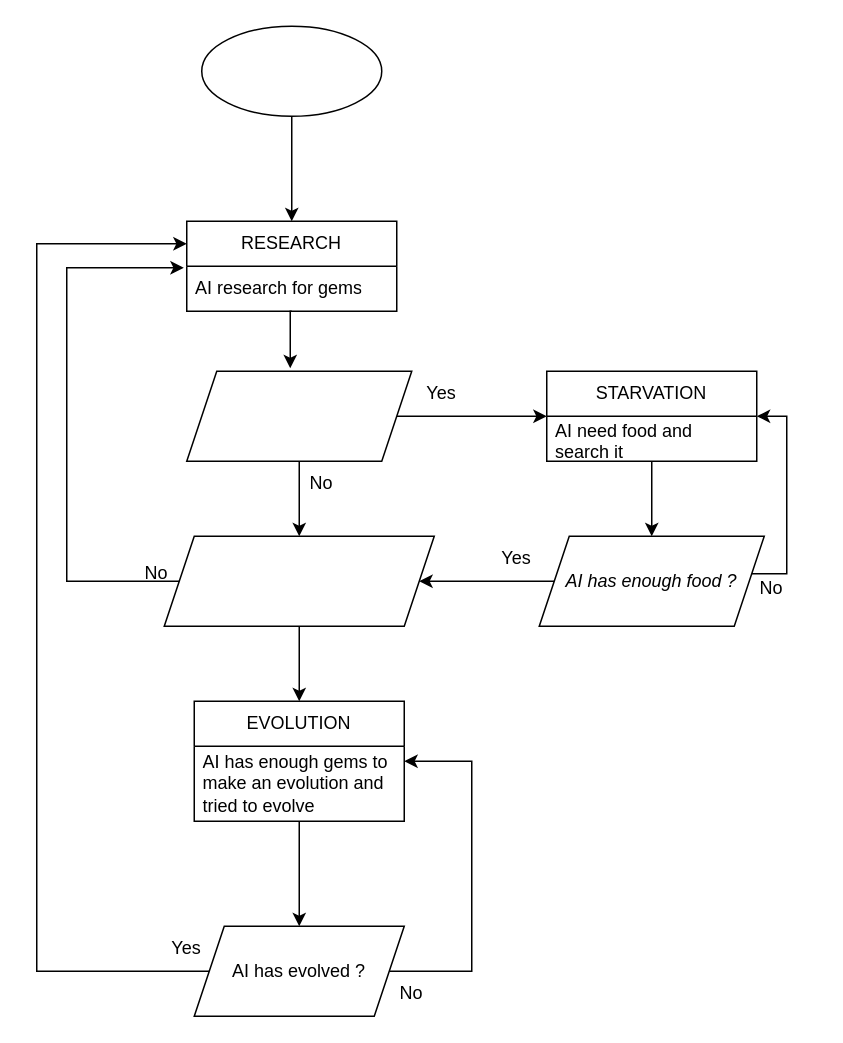
This 843x1043 diagram has some shape labels left out. The centre of each missing label's shape, as x and y in pixels:
AI can make an evolution ?: the point at 298,580
AI need food ?: the point at 298,415
START: the point at 291,70
